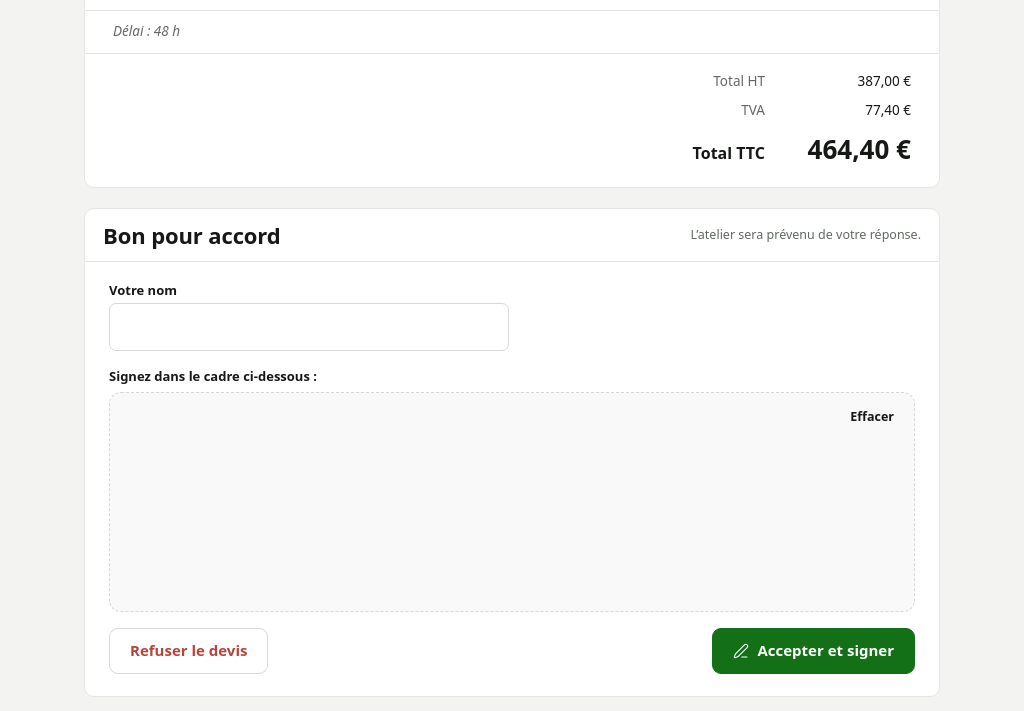
Test: devis en ligne (client, sans compte) › accord signé envoyé, puis confirmation affichée
(page scrolled)
Type "  Jean Martin " into the field labelled "Votre nom" at x=309, y=327, box [109,303,509,351]
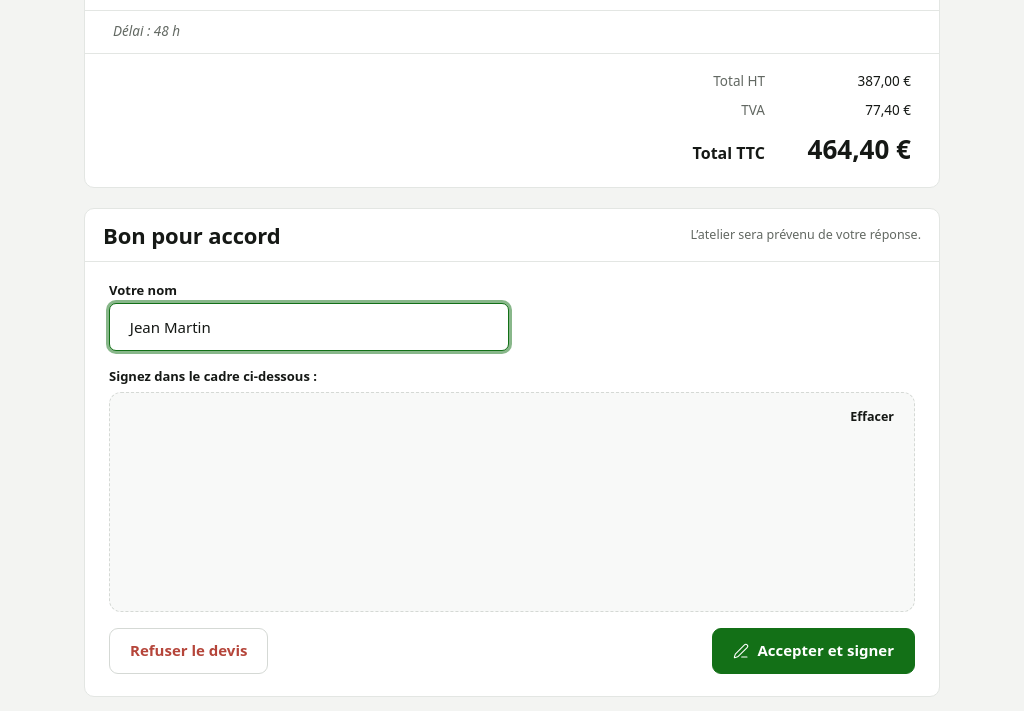
Click the button "Accepter et signer" at x=814, y=651, box [712,628,915,674]
(page scrolled)
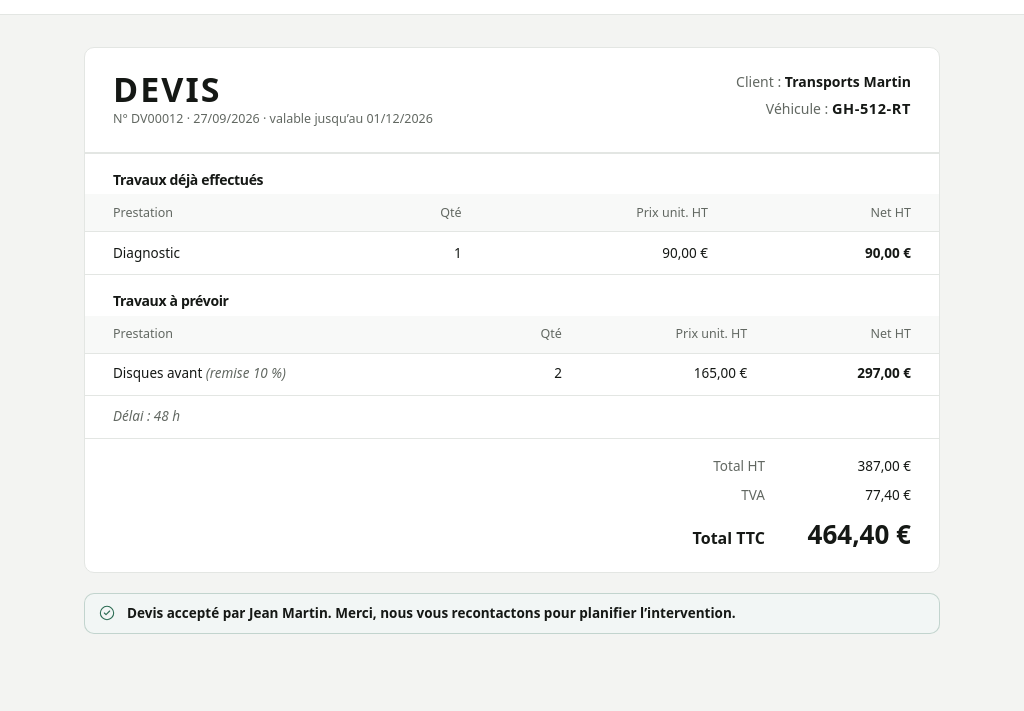
Expected: the text "Devis accepté par Jean Martin" is shown, [127,604,736,623]
Expected: the button "Accepter et signer" is gone
